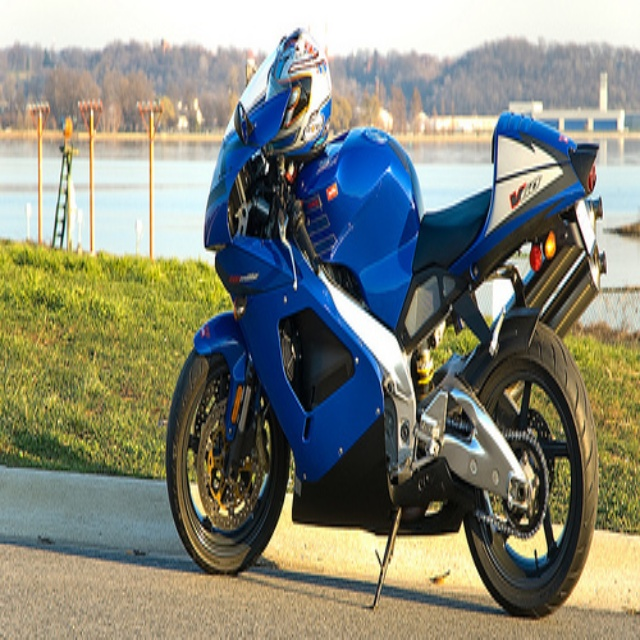Motorcycle: (166, 37, 605, 620)
